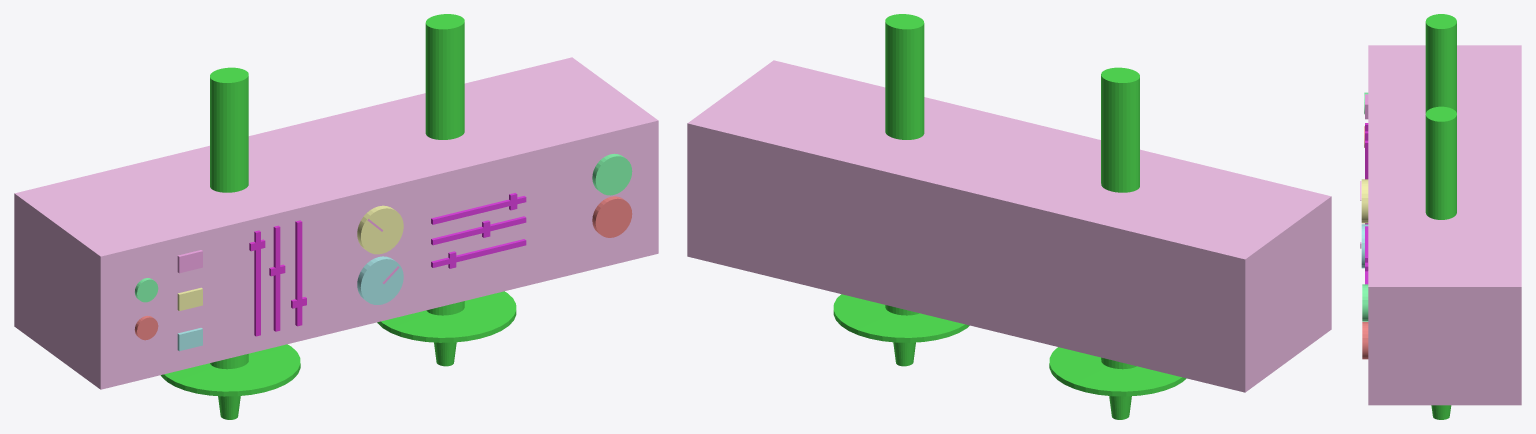
File: jedinica1.1.fbx
3 views of the same model, side by side, from view 1: azimuth 30°, elevation 25°; view 2: azimuth 150°, elevation 25°; view 3: azimuth 270°, elevation 25° (orthographic). The views are drawn at different scales.
Parts seen in each view (by area): view 1: Cube_009, Cylinder.001, Cylinder.006, Cube_009.015, Cube_009.016, Cube_009.014, Cube_009.012, Cube_009.019, Cube_009.018, Cube_009.017, Cube_009.022, Cube_009.020 (+1 smaller); view 2: Cube_009, Cylinder.001, Cylinder.006; view 3: Cube_009, Cylinder.001, Cylinder.006, Cube_009.015, Cube_009.012, Cube_009.014, Cube_009.016, Cube_009.019.
Boxes of the visible parts, <box> form: Cube_009: <box>14,57,658,389</box>; Cylinder.001: <box>377,14,516,366</box>; Cylinder.006: <box>160,67,300,419</box>; Cube_009.015: <box>357,205,403,254</box>; Cube_009.016: <box>357,256,403,304</box>; Cube_009.014: <box>592,196,632,237</box>; Cube_009.012: <box>592,153,632,195</box>; Cube_009.019: <box>295,220,302,326</box>; Cube_009.018: <box>273,225,280,331</box>; Cube_009.017: <box>254,230,260,336</box>; Cube_009.022: <box>431,239,526,267</box>; Cube_009.020: <box>431,196,526,224</box>; Cube_009: <box>687,60,1331,392</box>; Cylinder.001: <box>833,14,969,366</box>; Cylinder.006: <box>1049,67,1186,419</box>; Cube_009: <box>1368,45,1521,405</box>; Cylinder.001: <box>1425,106,1456,419</box>; Cylinder.006: <box>1425,14,1456,113</box>; Cube_009.015: <box>1361,179,1368,223</box>; Cube_009.012: <box>1362,284,1368,321</box>; Cube_009.014: <box>1362,322,1368,359</box>; Cube_009.016: <box>1361,224,1368,268</box>; Cube_009.019: <box>1365,140,1368,224</box>.
Size of the model in its own units: 1358 by 795 by 383.
